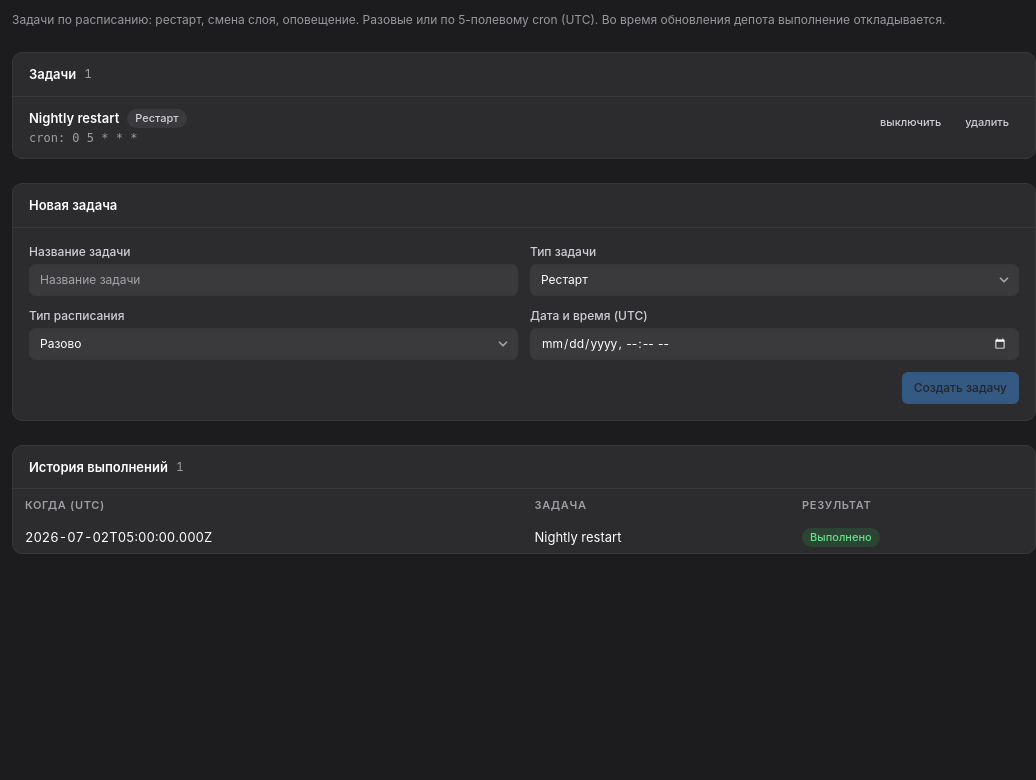
Test: SchedulePage › validates the create form: the submit button enables only once required fields are filled
Expected: the list with test id "scheduled-tasks-list" is shown, [29, 109, 1019, 145]
Expected: the button "Создать задачу" is disabled, [902, 372, 1019, 404]
Type "Evening restart" into the field with placeholder "Название задачи".
click(274, 280); type("Evening restart")  # box [29, 264, 518, 296]
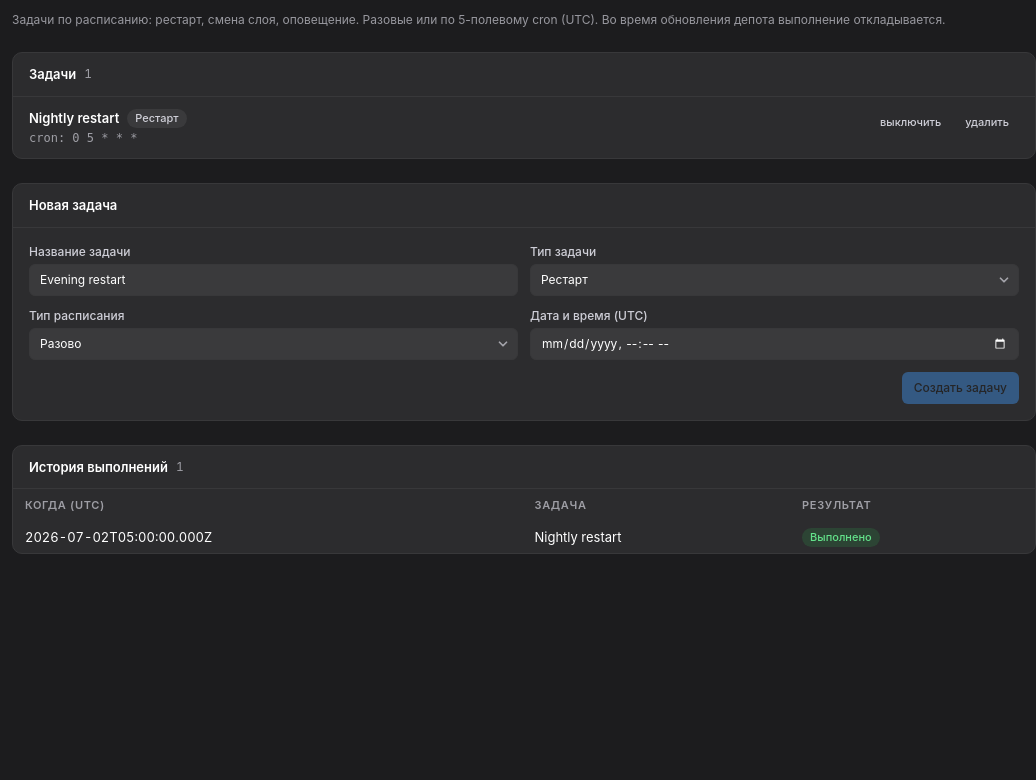
Expected: the button "Создать задачу" is disabled, [902, 372, 1019, 404]
Type "2026-08-01T05:00" into the field labelled "Дата и время (UTC)".
click(774, 344); type("2026-08-01T05:00")  # box [530, 328, 1019, 360]
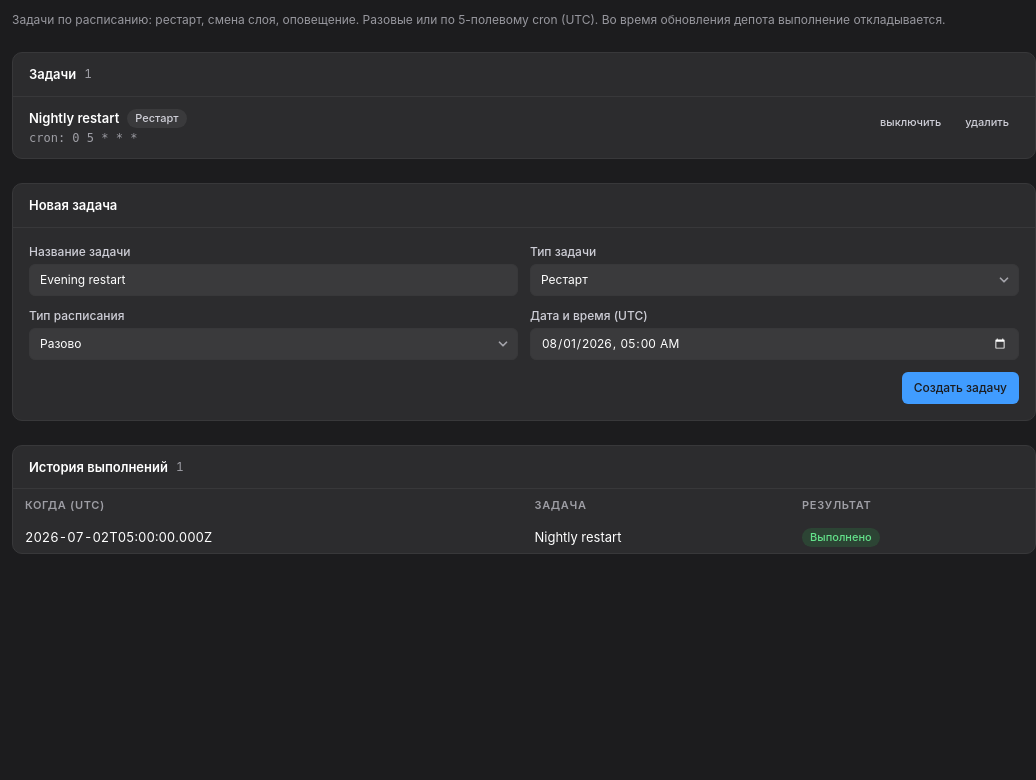
Now the button "Создать задачу" is enabled, box [902, 372, 1019, 404]
